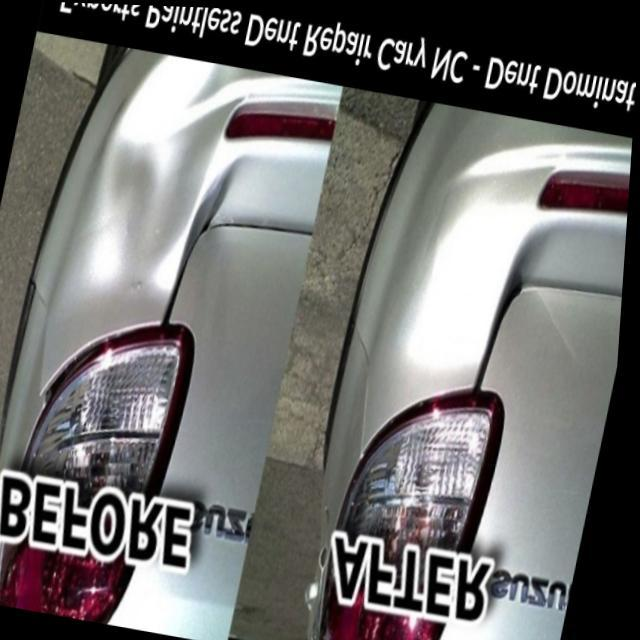Dent: (71, 58, 232, 299)
